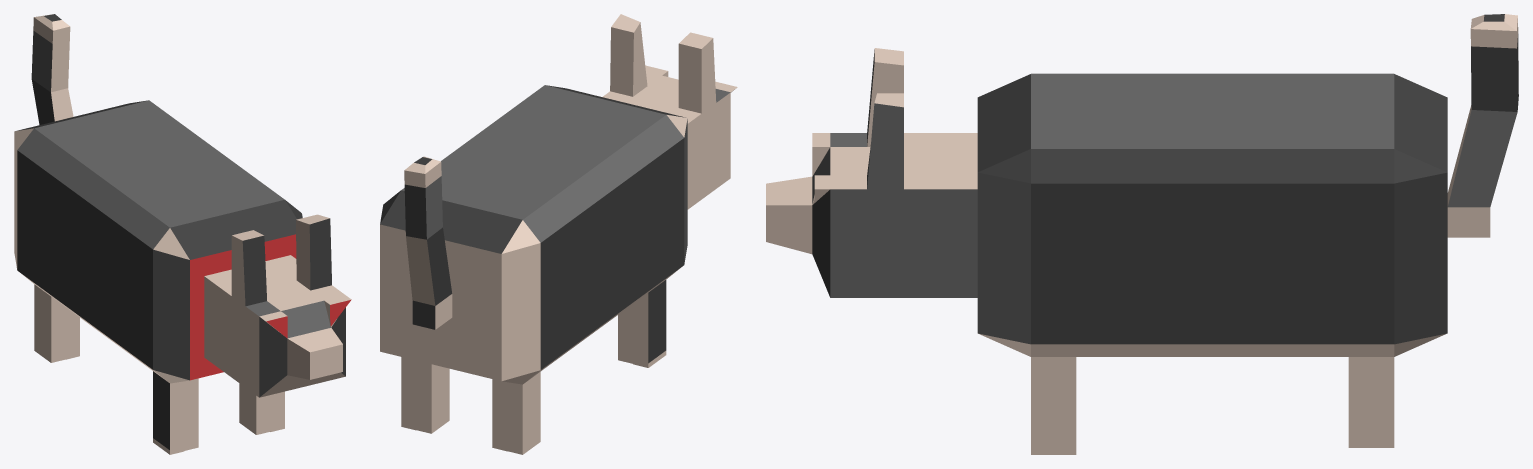
The model's file is DOGprAV.fbx.
3 views of the same model, side by side, from view 1: azimuth 30°, elevation 25°; view 2: azimuth 150°, elevation 25°; view 3: azimuth 270°, elevation 25° (orthographic). The views are drawn at different scales.
Parts seen in each view (by area): view 1: Cube; view 2: Cube; view 3: Cube.
Part boxes in pixels (x1,y1,x2,y2): Cube: [14, 14, 351, 454]; Cube: [380, 14, 737, 454]; Cube: [766, 14, 1518, 454].
Bounding box in the file's own units: 195 × 373 × 637.
